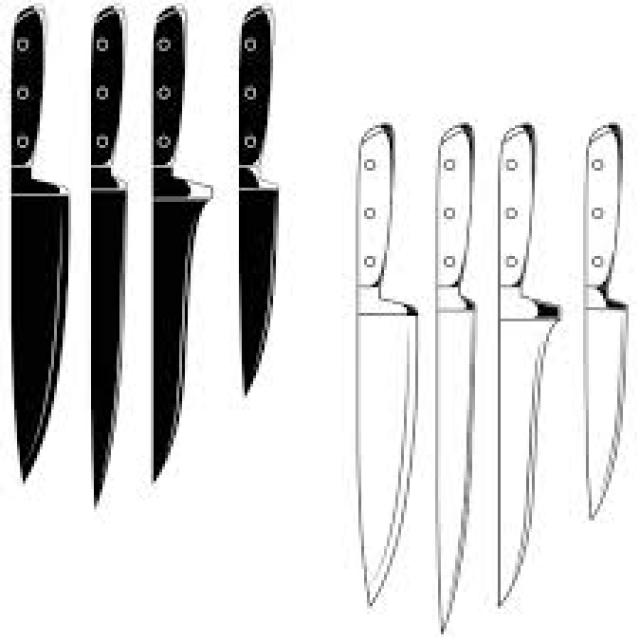Knife: (353, 119, 415, 606), (495, 122, 557, 606), (148, 3, 210, 481), (9, 3, 68, 481), (432, 123, 475, 632), (88, 3, 125, 506), (580, 122, 626, 518), (236, 3, 279, 392)
